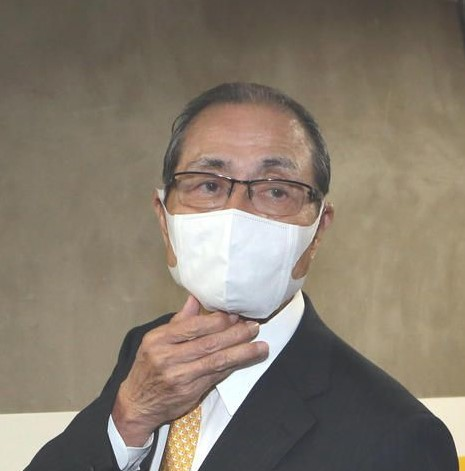face_with_mask: (146, 82, 338, 322)
